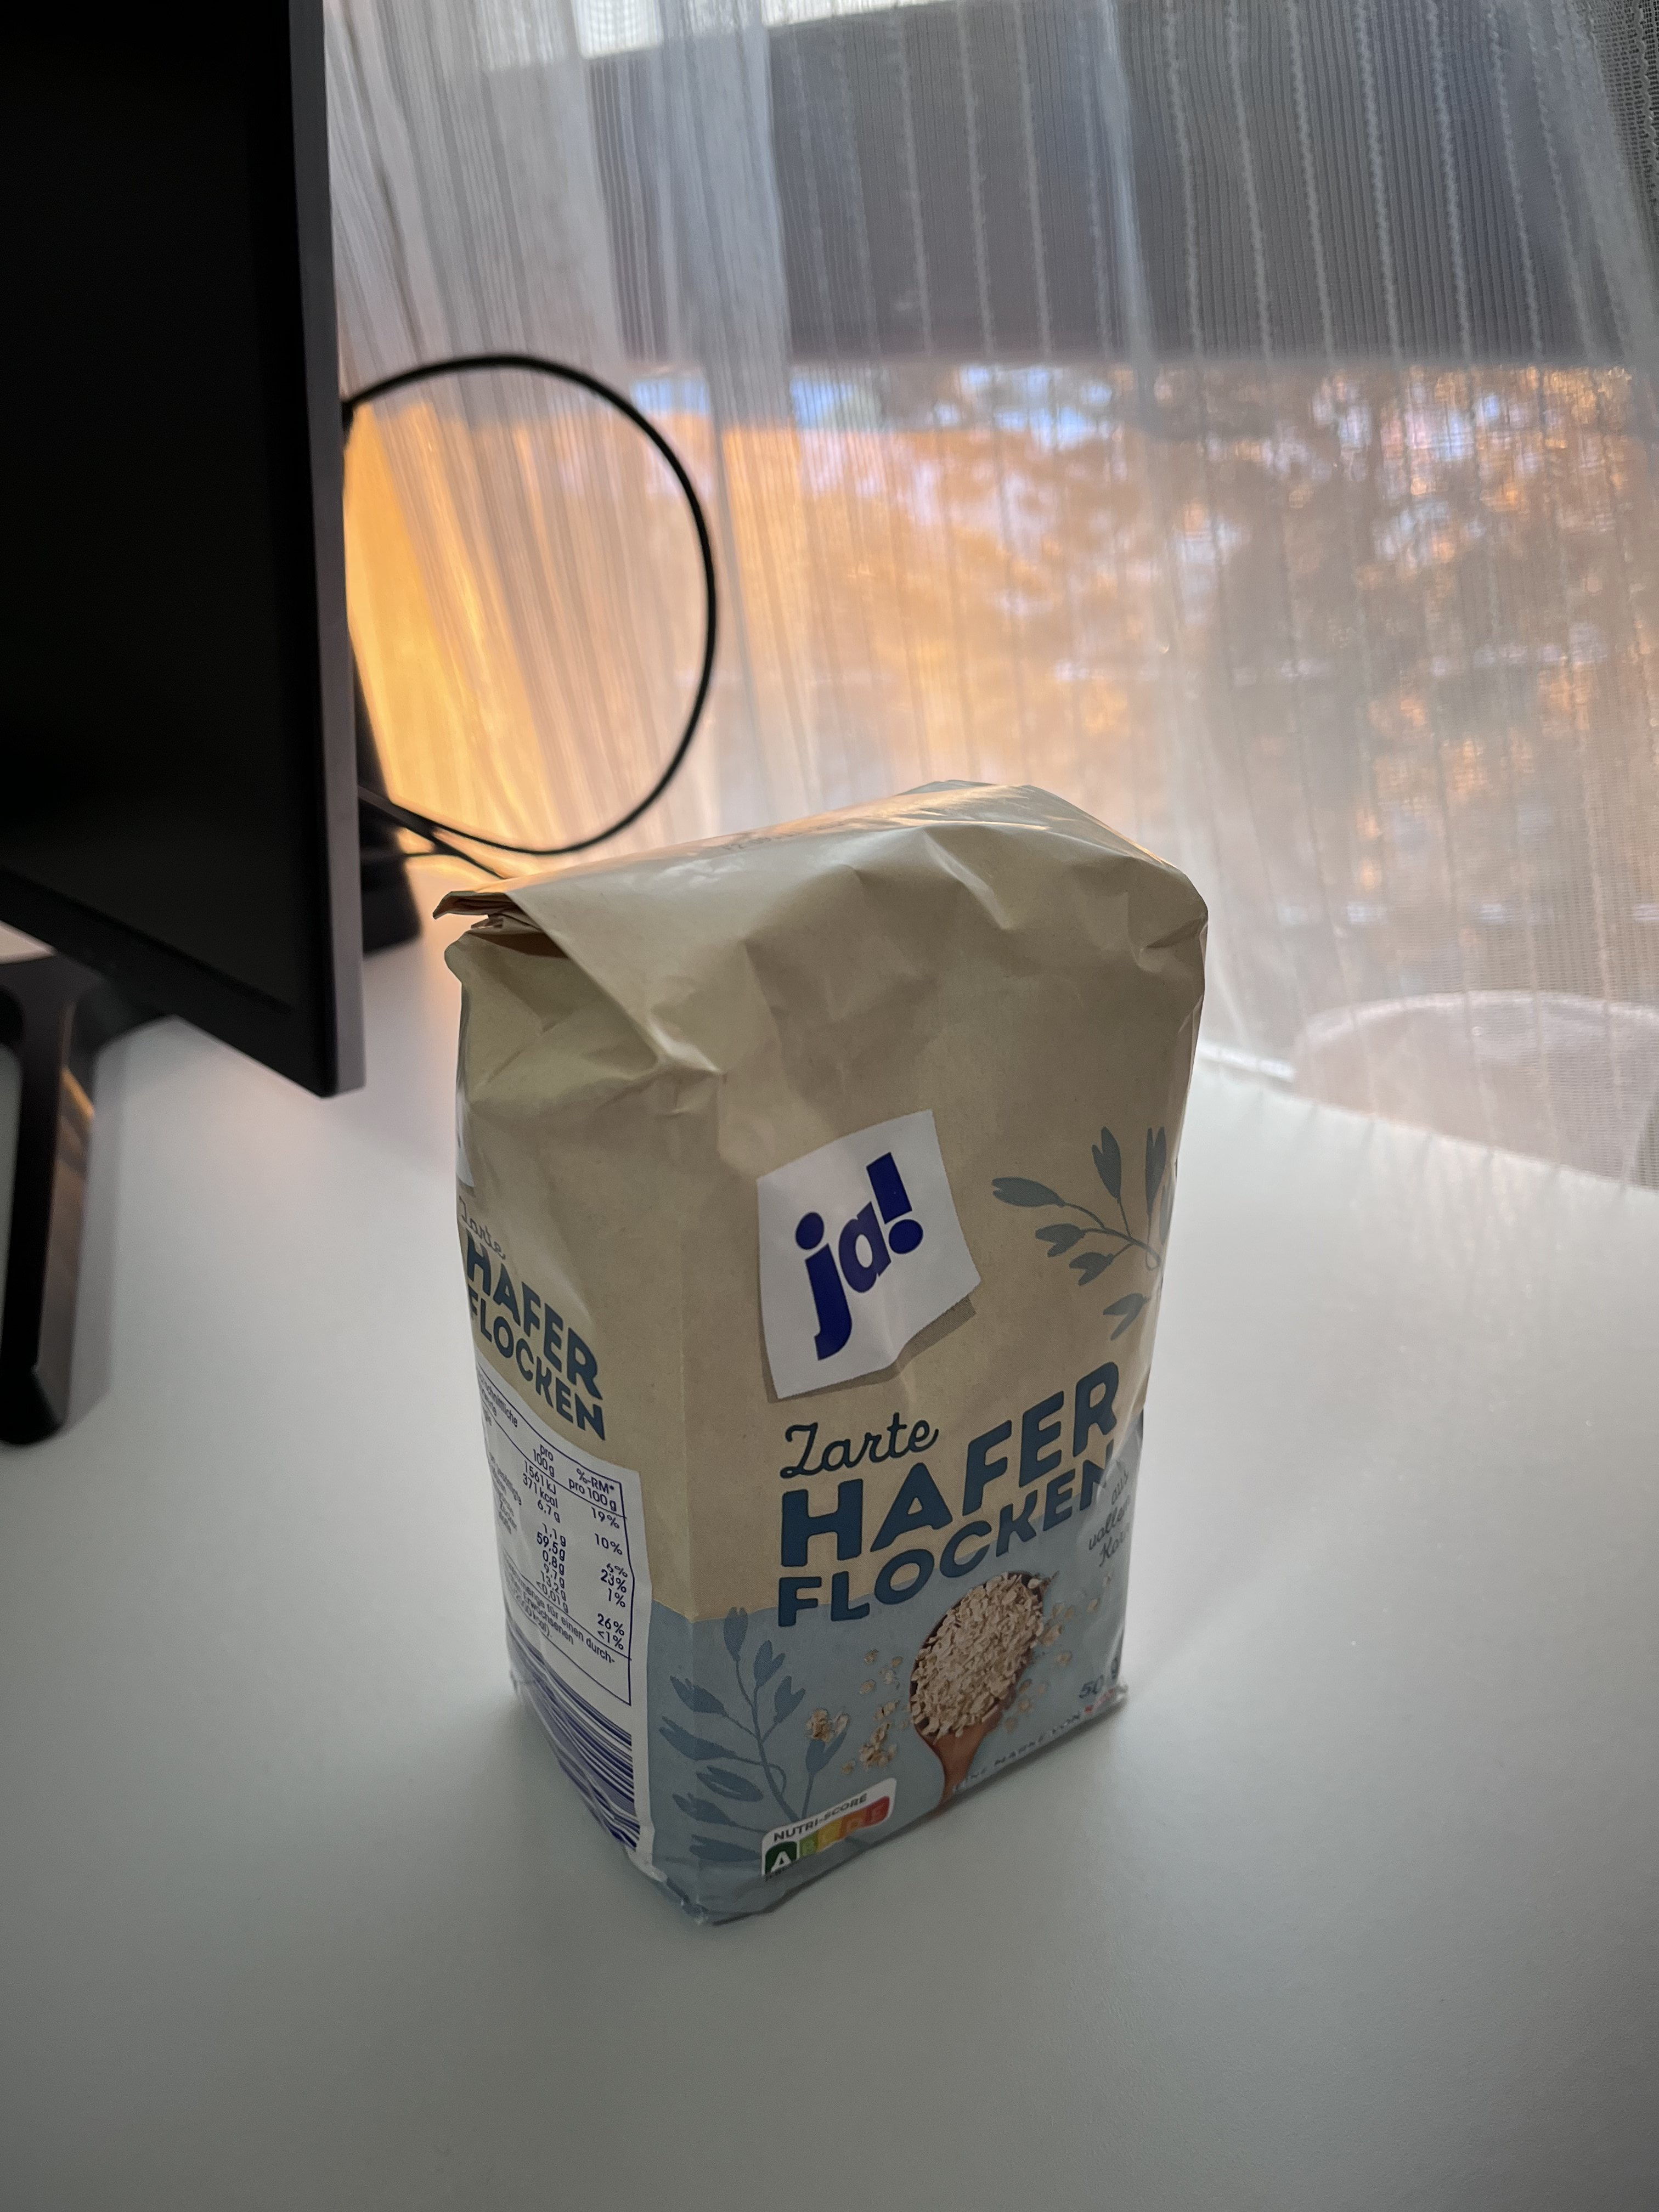haferflocken_ja: (432, 775, 1209, 1928)
